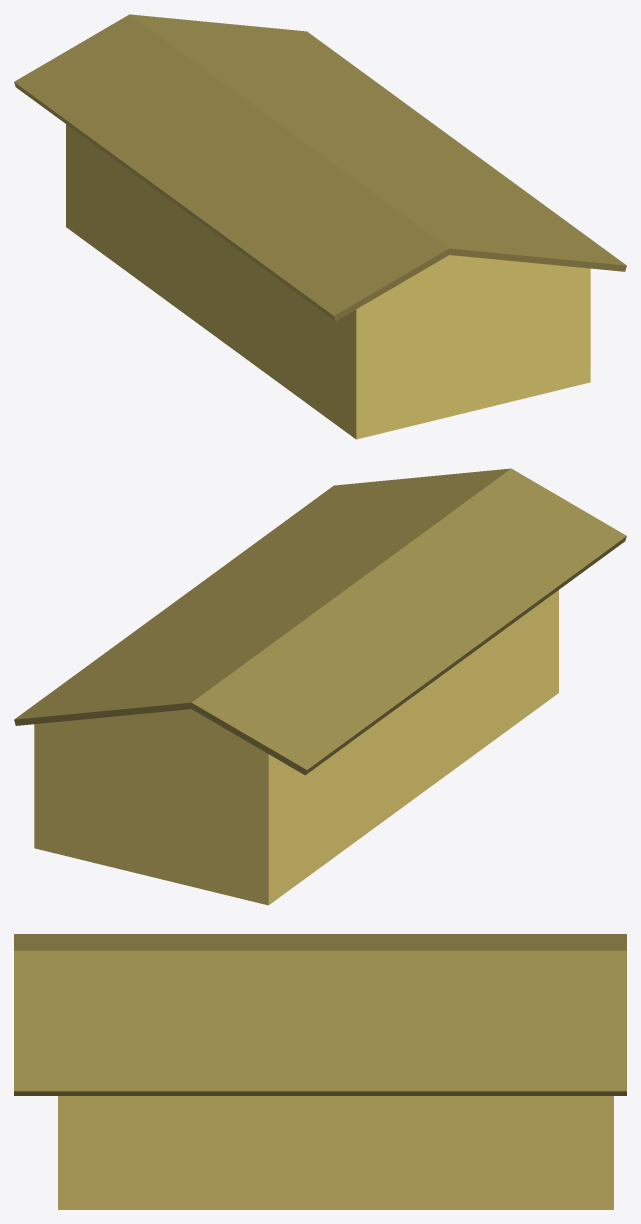
File: result.glb
3 renders of one model, top to bottom at view 1: azimuth 30°, elevation 25°; view 2: azimuth 150°, elevation 25°; view 3: azimuth 270°, elevation 25°, orthographic. The views are drawn at different scales.
Parts seen in each view (by area): view 1: ecfabcb1-ae47-439f-be90-7e58f8e45228__undefined (×2), ce06dbf8-d299-4220-a76a-1f62860091fe__undefined; view 2: ecfabcb1-ae47-439f-be90-7e58f8e45228__undefined (×2), ce06dbf8-d299-4220-a76a-1f62860091fe__undefined; view 3: ecfabcb1-ae47-439f-be90-7e58f8e45228__undefined (×2), ce06dbf8-d299-4220-a76a-1f62860091fe__undefined.
Boxes of the visible parts, left/top/right/bottom form: ecfabcb1-ae47-439f-be90-7e58f8e45228__undefined (×2): left=14, top=14, right=626, bottom=321; ce06dbf8-d299-4220-a76a-1f62860091fe__undefined: left=66, top=124, right=590, bottom=439; ecfabcb1-ae47-439f-be90-7e58f8e45228__undefined (×2): left=14, top=468, right=626, bottom=775; ce06dbf8-d299-4220-a76a-1f62860091fe__undefined: left=34, top=590, right=558, bottom=905; ecfabcb1-ae47-439f-be90-7e58f8e45228__undefined (×2): left=14, top=934, right=626, bottom=1095; ce06dbf8-d299-4220-a76a-1f62860091fe__undefined: left=58, top=1096, right=613, bottom=1209.
Bounding box in the file's own units: 1248 × 776 × 2360.
